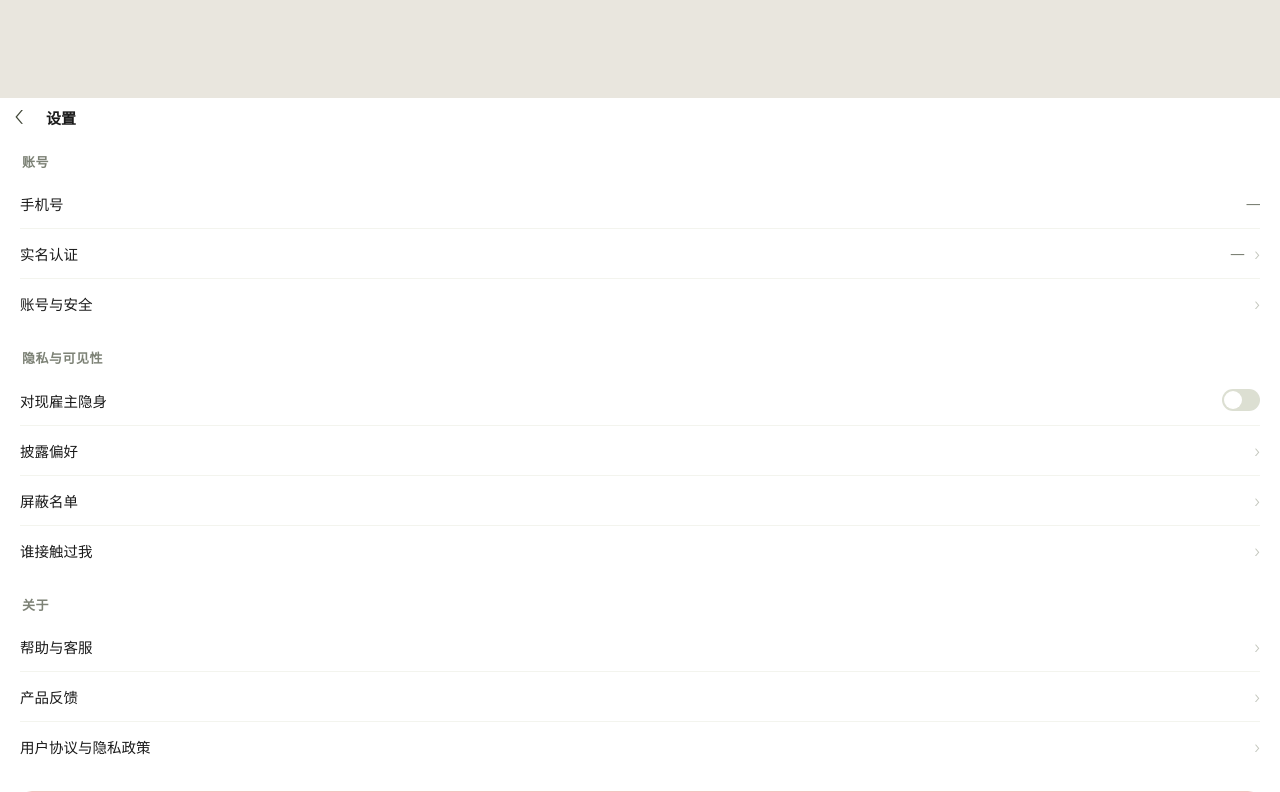
Scenario: 设置 · Backend 隐私写线 › Backend 开启隐身写入失败：弹现有轻提示错误文案，不派发本地假成功
(page scrolled)
What coordinates should you click on to do the following:
click the switch named "对现雇主隐身"
I would click on:
 (1241, 400)
Its box is [1222, 389, 1260, 411].
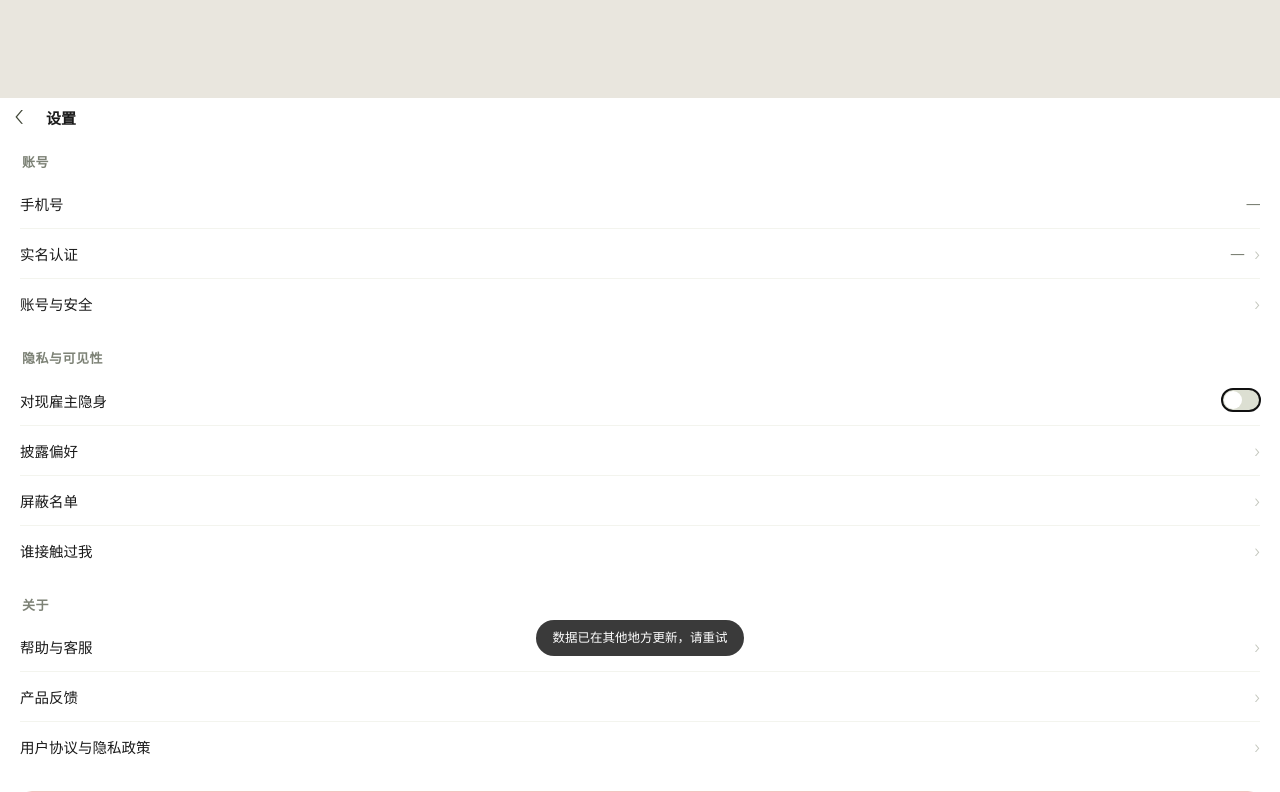
Now the text "数据已在其他地方更新，请重试" is shown, box [536, 620, 744, 656]
